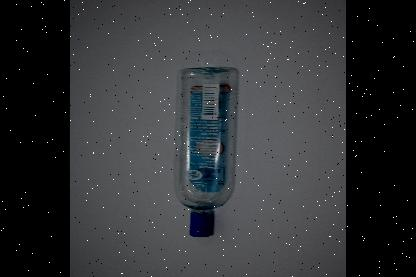Plastic Bottle: (174, 65, 237, 235)
